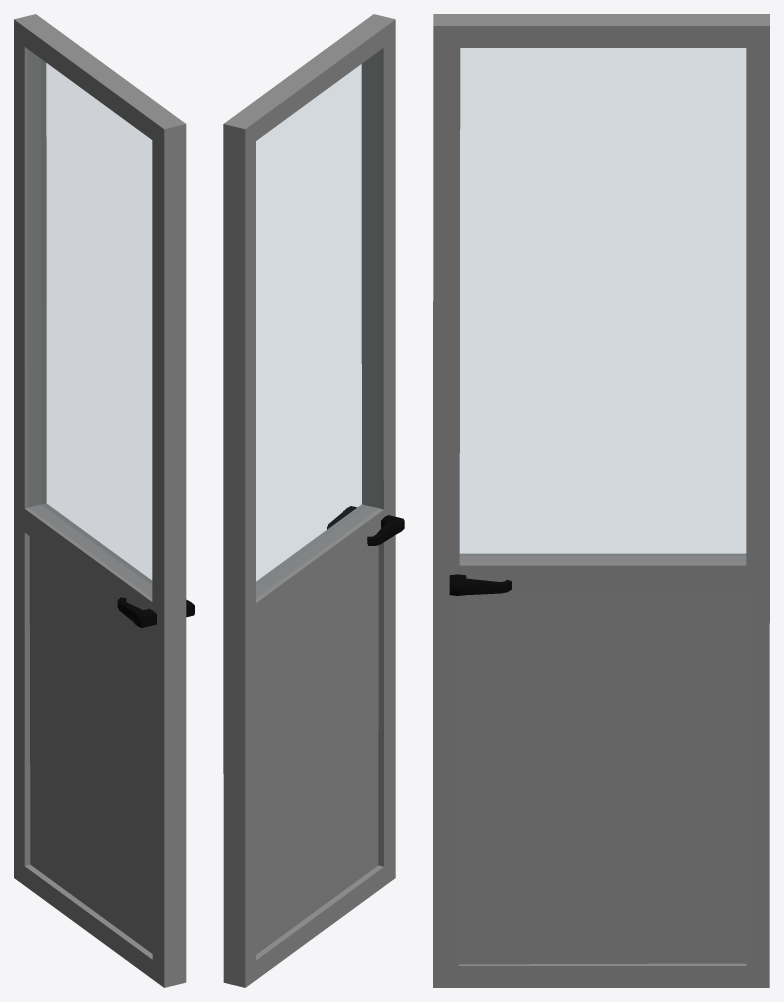
Rendered from balcony door.FBX.
The picture shows the model from 3 angles, left to right: view 1: azimuth 30°, elevation 25°; view 2: azimuth 150°, elevation 25°; view 3: azimuth 270°, elevation 25°; orthographic projection. The views are drawn at different scales.
Parts seen in each view (by area): view 1: Balcony_door_014; view 2: Balcony_door_014; view 3: Balcony_door_014.
Boxes of the visible parts, left/top/right/bottom form: Balcony_door_014: left=14, top=14, right=194, bottom=987; Balcony_door_014: left=223, top=14, right=404, bottom=987; Balcony_door_014: left=433, top=14, right=769, bottom=987.
Bounding box in the file's own units: 14.83 × 219 × 69.45.
